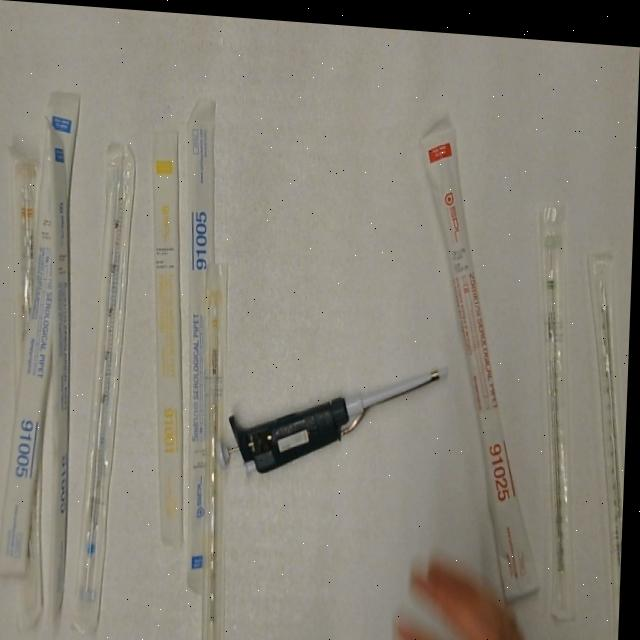Serelogical Pipet 1 mL - Sealed: (139, 123, 199, 548), (195, 252, 243, 640)
Serelogical Pipet 10 mL - Sealed: (6, 146, 42, 398)
Serelogical Pipet 2 mL - Sealed: (527, 195, 595, 619)
Serelogical Pipet 25 mL - Sealed: (407, 112, 561, 606)
Serelogical Pipet 5 mL - Sealed: (0, 79, 86, 588), (173, 84, 243, 597), (73, 137, 143, 638), (31, 115, 87, 636)
Single Channel Pipettor: (216, 340, 455, 485)
